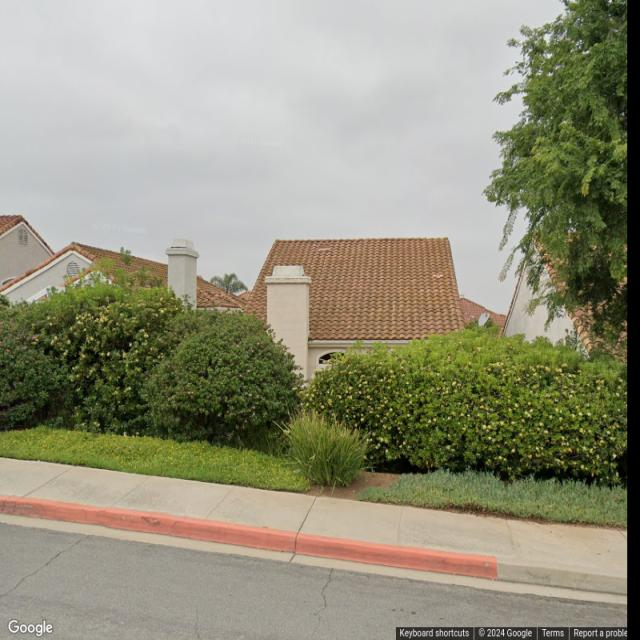House: (243, 240, 508, 388), (0, 239, 247, 313), (500, 235, 620, 348), (0, 215, 56, 287)
